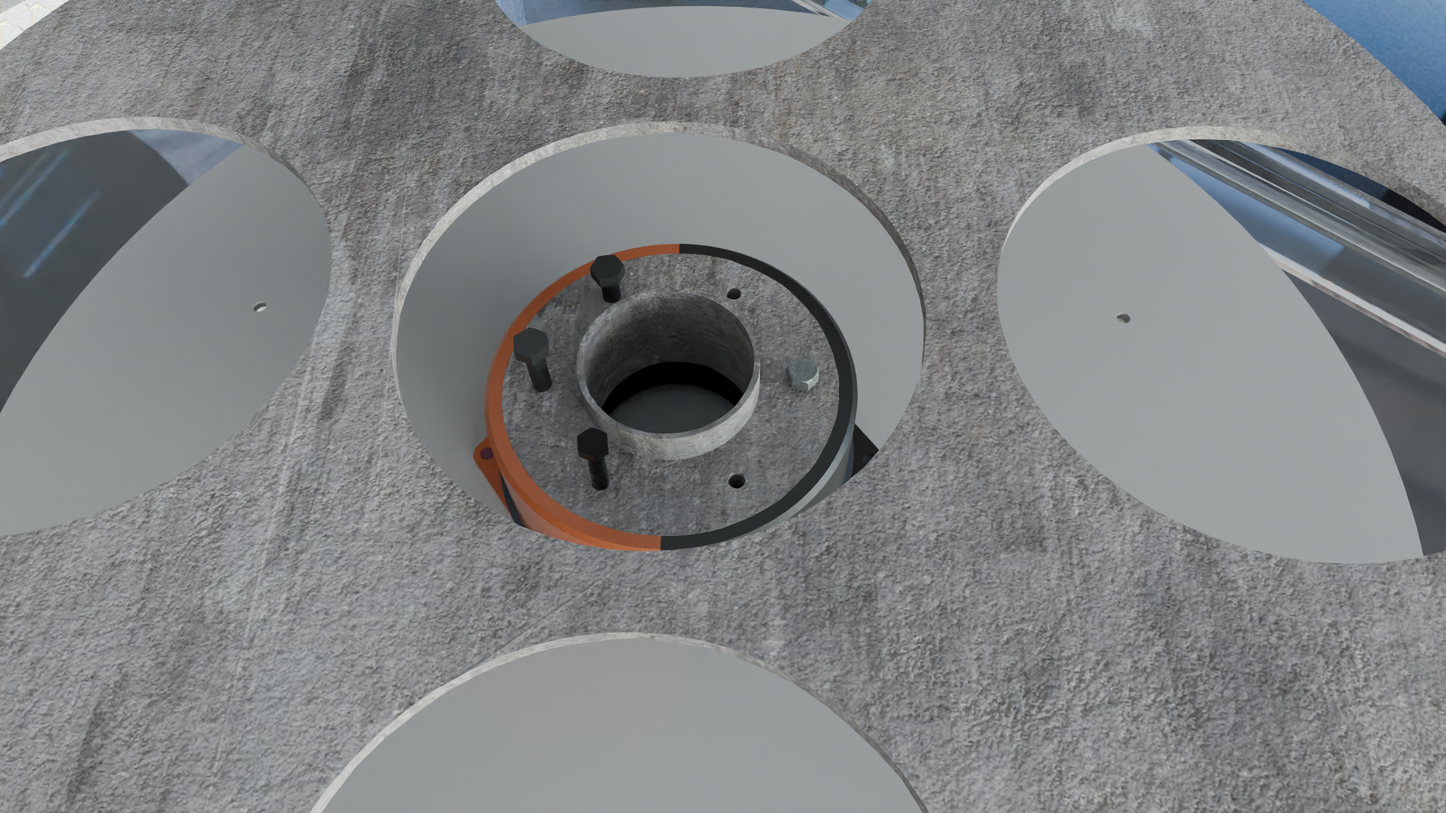bolt: (514, 327, 548, 358), (577, 428, 608, 457), (590, 254, 624, 280), (787, 358, 819, 385)
